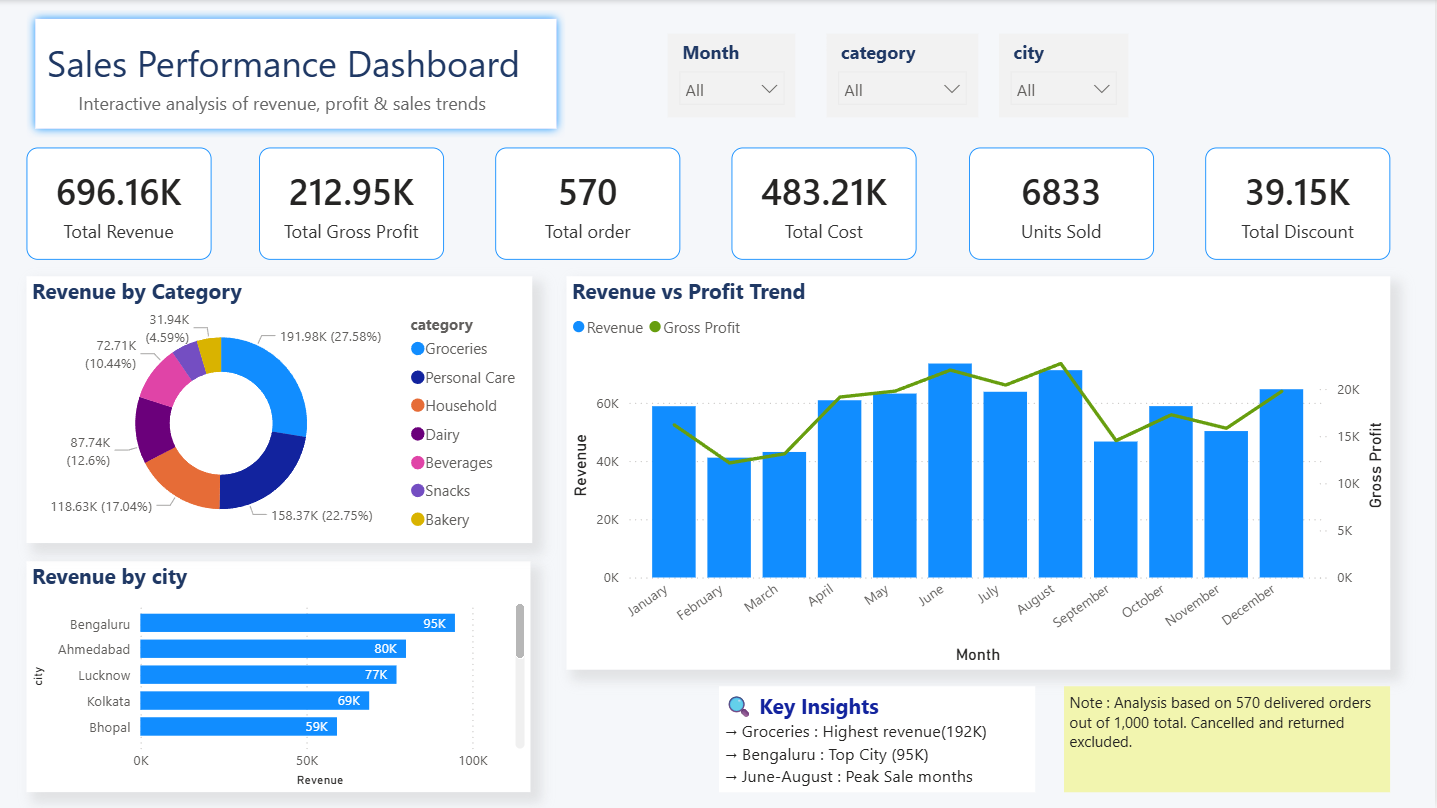

Layout of this report page (visuals, bound fields, positions):
{"tool":"powerbi","page":{"name":"Overview","canvas":[1280,720],"ordinal":0},"visuals":[{"type":"card","fields":{"Values":["_Measures.Total_revenue"]},"box":[24.5,131.4,164.8,100.2],"z":0},{"type":"card","fields":{"Values":["_Measures.Total_order"]},"box":[442.3,131.5,164.8,100],"z":1000},{"type":"card","fields":{"Values":["_Measures.Total_unit_sold"]},"box":[863.5,131.5,164.8,100],"z":2000},{"type":"card","title":"Total Profit","fields":{"Values":["_Measures.Total_gross_profit"]},"box":[231.7,131.5,164.8,100],"z":3000},{"type":"card","fields":{"Values":["_Measures.Total_cost"]},"box":[652.9,131.5,164.8,100],"z":4000},{"type":"card","fields":{"Values":["_Measures.Total discount amount"]},"box":[1074.1,131.5,164.8,100],"z":5000},{"type":"clusteredBarChart","title":"Revenue by city","fields":{"Category":["sales_analytics customer_clean.city"],"Y":["_Measures.Total_revenue"]},"box":[24.7,499.5,448.7,205.8],"z":6000},{"type":"donutChart","title":"Revenue by Category","fields":{"Category":["sales_analytics products_clean.category"],"Y":["_Measures.Total_revenue"]},"box":[24.7,245.6,450.1,237.4],"z":7000},{"type":"slicer","fields":{"Values":["DateTable.Month"]},"box":[595.5,30.2,113.9,74.1],"z":8000},{"type":"slicer","fields":{"Values":["sales_analytics customer_clean.city"]},"box":[890.7,29.6,114.8,74.1],"z":9000},{"type":"slicer","fields":{"Values":["sales_analytics products_clean.category"]},"box":[737,29.6,135.2,74.1],"z":10000},{"type":"lineClusteredColumnComboChart","title":"Revenue vs Profit Trend","fields":{"Category":["DateTable.Month"],"Y":["_Measures.Total_revenue"],"Y2":["_Measures.Total_gross_profit"]},"box":[505.6,246.3,733.3,350],"z":11000},{"type":"shape","box":[24.5,8.9,479.8,113.5],"z":12000},{"type":"textbox","box":[37.8,28.9,439.7,55.7],"z":13000},{"type":"textbox","box":[65.7,75.7,386.3,37.8],"z":14000},{"type":"textbox","box":[948.1,611.1,290.7,94.4],"z":15000},{"type":"textbox","box":[640.7,611.1,281.5,94.4],"z":16000}]}

Visuals, with their boxes in screenshot pixels (x1, y1, x2, y2), scaled from the page's 1280x720 canvas onto the 1437x808 screenshot:
card - _Measures.Total_revenue: region(28, 147, 213, 260)
card - _Measures.Total_order: region(497, 148, 682, 260)
card - _Measures.Total_unit_sold: region(969, 148, 1154, 260)
"Total Profit" card: region(260, 148, 445, 260)
card - _Measures.Total_cost: region(733, 148, 918, 260)
card - _Measures.Total discount amount: region(1206, 148, 1391, 260)
"Revenue by city" clusteredBarChart: region(28, 561, 531, 792)
"Revenue by Category" donutChart: region(28, 276, 533, 542)
slicer - DateTable.Month: region(669, 34, 796, 117)
slicer - sales_analytics customer_clean.city: region(1000, 33, 1129, 116)
slicer - sales_analytics products_clean.category: region(827, 33, 979, 116)
"Revenue vs Profit Trend" lineClusteredColumnComboChart: region(568, 276, 1391, 669)
shape: region(28, 10, 566, 137)
textbox: region(42, 32, 536, 95)
textbox: region(74, 85, 507, 127)
textbox: region(1064, 686, 1391, 792)
textbox: region(719, 686, 1035, 792)
